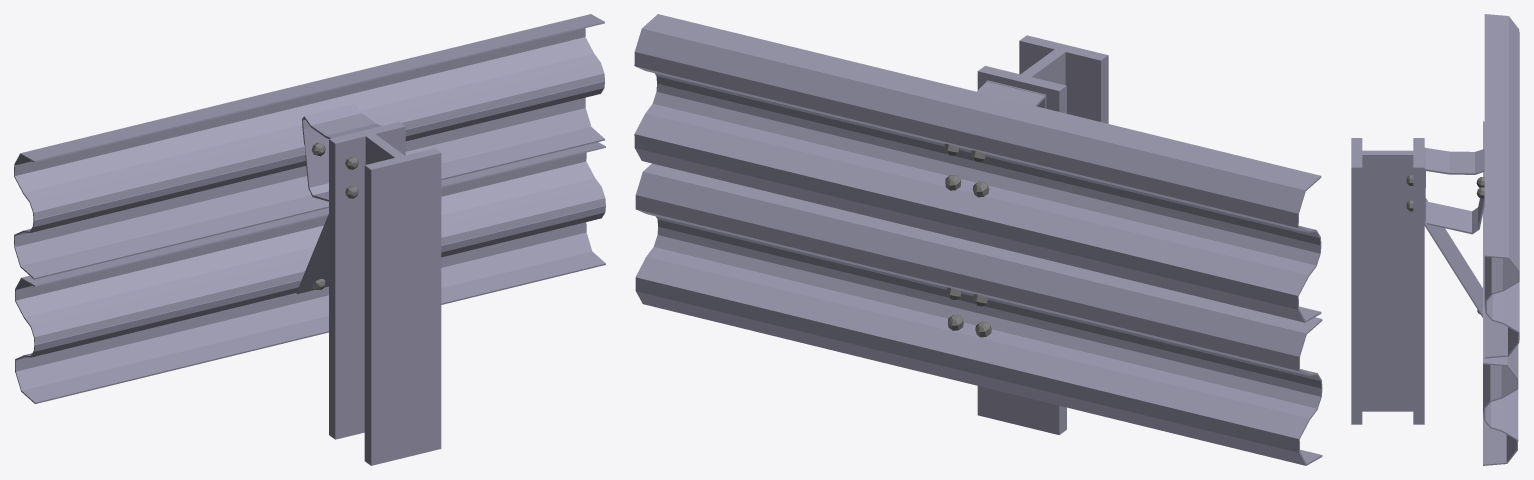
Rendered from leitplanke.glb.
3 renders of one model, left to right at view 1: azimuth 30°, elevation 25°; view 2: azimuth 150°, elevation 25°; view 3: azimuth 270°, elevation 25°, orthographic. The views are drawn at different scales.
Visible parts, largest first — view 1: Plane.003; view 2: Plane.003; view 3: Plane.003.
Boxes of the visible parts, <box> form: Plane.003: <box>14,14,605,465</box>; Plane.003: <box>634,14,1322,465</box>; Plane.003: <box>1351,14,1519,465</box>.
Bounding box in the file's own units: 4.04 × 2.11 × 1.19.
